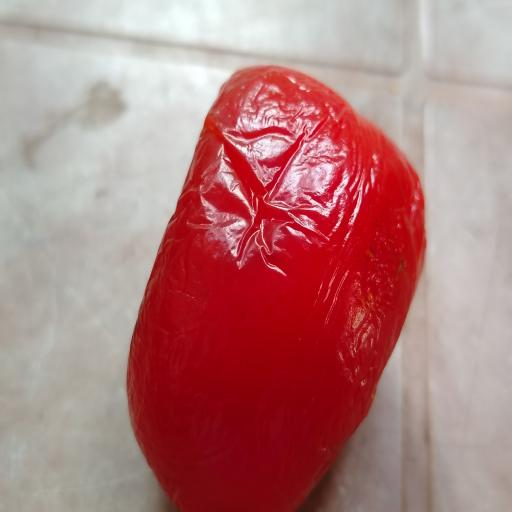spoiled: (127, 66, 425, 512)
